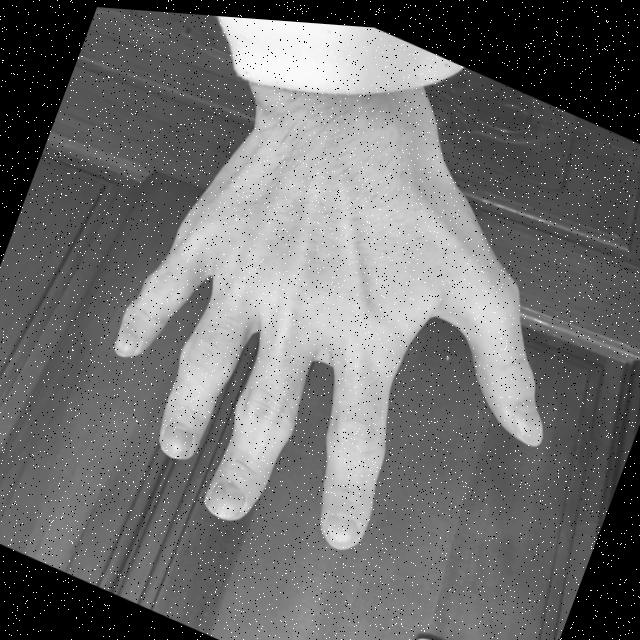hand: (68, 88, 605, 630)
